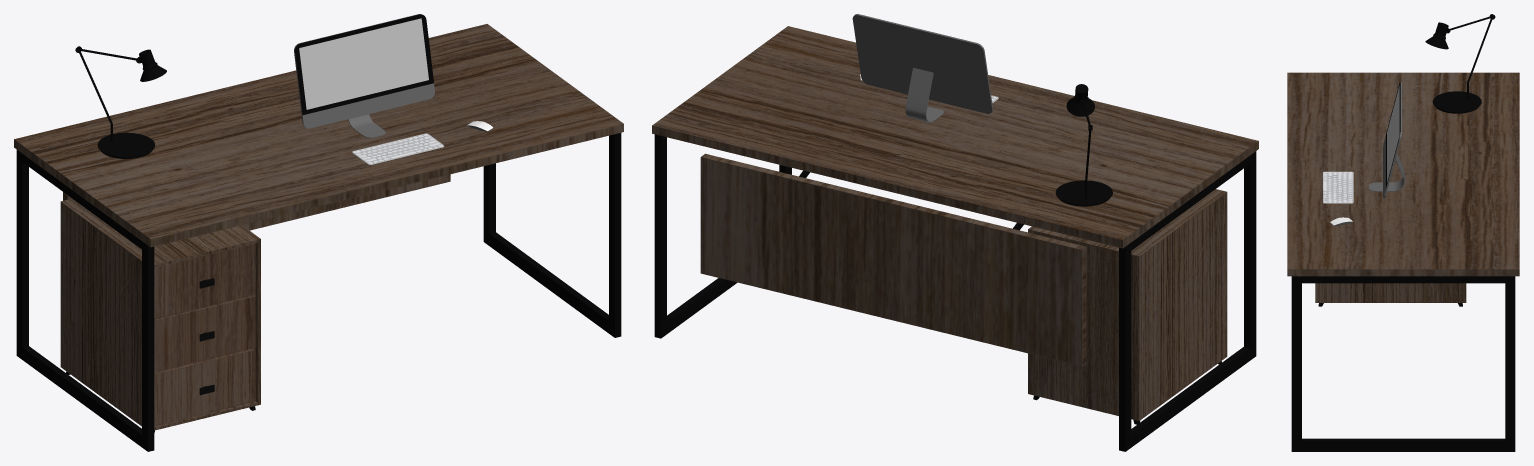
Rendered from Table.obj.
3 views of the same model, side by side, from view 1: azimuth 30°, elevation 25°; view 2: azimuth 150°, elevation 25°; view 3: azimuth 270°, elevation 25° (orthographic). The views are drawn at different scales.
Parts seen in each view (by area): view 1: Table_Cylinder.001, Drawer_Cube.001, PC_Plane.008, Cube.001_Cube.002, Cube.002_Cube.008, Cube.003_Cube.009, Table_lamp_Cylinder, Keyboard_Plane.009; view 2: Table_Cylinder.001, Drawer_Cube.001, PC_Plane.008, Table_lamp_Cylinder; view 3: Table_Cylinder.001, Drawer_Cube.001, Table_lamp_Cylinder, PC_Plane.008, Keyboard_Plane.009.
Boxes of the visible parts, left/top/right/bottom form: Table_Cylinder.001: left=14, top=24, right=623, bottom=451; Drawer_Cube.001: left=60, top=198, right=260, bottom=432; PC_Plane.008: left=294, top=14, right=434, bottom=137; Cube.001_Cube.002: left=154, top=348, right=255, bottom=426; Cube.002_Cube.008: left=154, top=295, right=255, bottom=372; Cube.003_Cube.009: left=154, top=243, right=255, bottom=319; Table_lamp_Cylinder: left=75, top=46, right=166, bottom=158; Keyboard_Plane.009: left=352, top=133, right=444, bottom=164; Table_Cylinder.001: left=652, top=26, right=1258, bottom=451; Drawer_Cube.001: left=1028, top=189, right=1227, bottom=424; PC_Plane.008: left=852, top=14, right=992, bottom=122; Table_lamp_Cylinder: left=1055, top=84, right=1112, bottom=206; Table_Cylinder.001: left=1287, top=72, right=1519, bottom=451; Drawer_Cube.001: left=1315, top=283, right=1466, bottom=306; Table_lamp_Cylinder: left=1425, top=14, right=1495, bottom=113; PC_Plane.008: left=1369, top=81, right=1404, bottom=198; Keyboard_Plane.009: left=1323, top=171, right=1353, bottom=203.
Bounding box in the file's own units: 1.2 × 0.7643 × 0.6.
13 materials, 5 textured.
